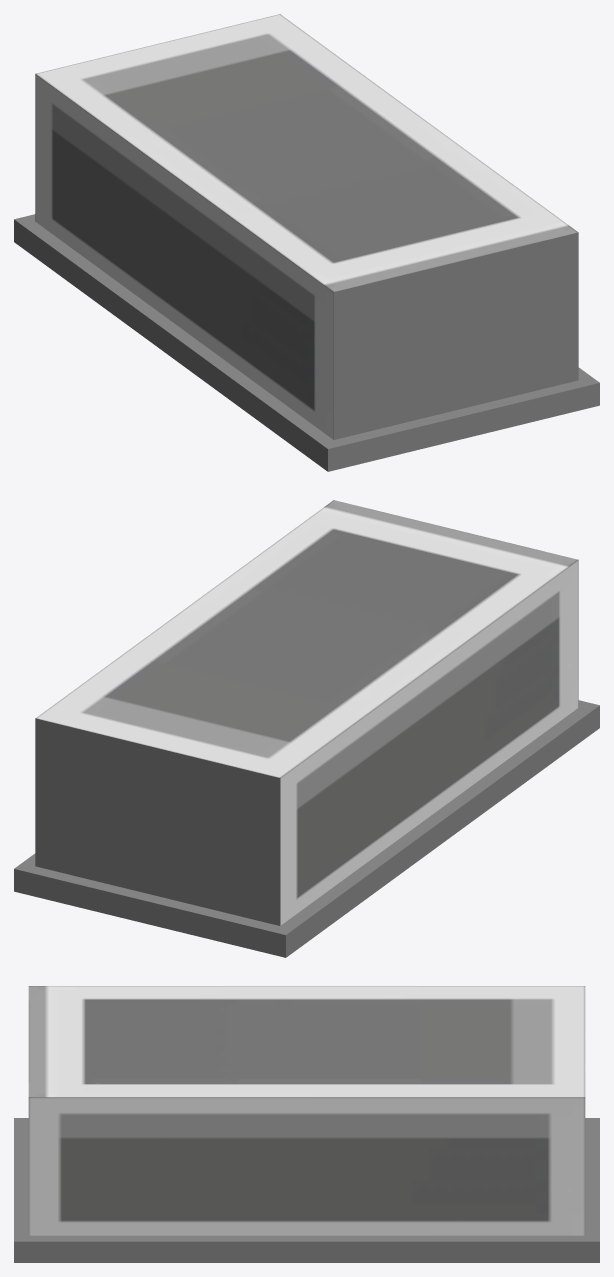
The model's file is Building_Sarcophagus.obj.
3 views of the same model, one above another, from view 1: azimuth 30°, elevation 25°; view 2: azimuth 150°, elevation 25°; view 3: azimuth 270°, elevation 25° (orthographic). The views are drawn at different scales.
Parts seen in each view (by area): view 1: Body; view 2: Body; view 3: Body.
Part boxes in pixels (x1,y1,x2,y2): Body: [14, 14, 599, 471]; Body: [14, 500, 599, 957]; Body: [14, 986, 599, 1262].
Size of the model in its own units: 1 by 0.6 by 2.
1 material, 1 textured.
